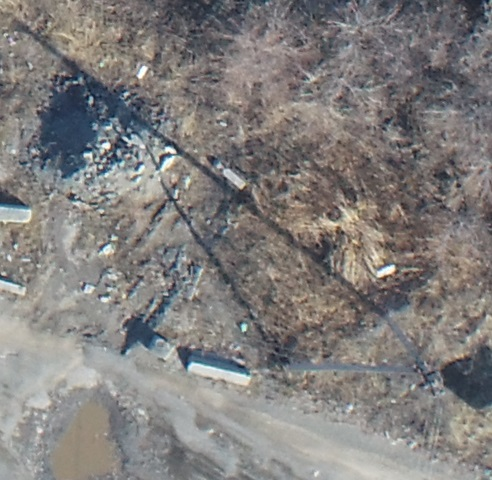opora: (258, 274, 447, 398)
